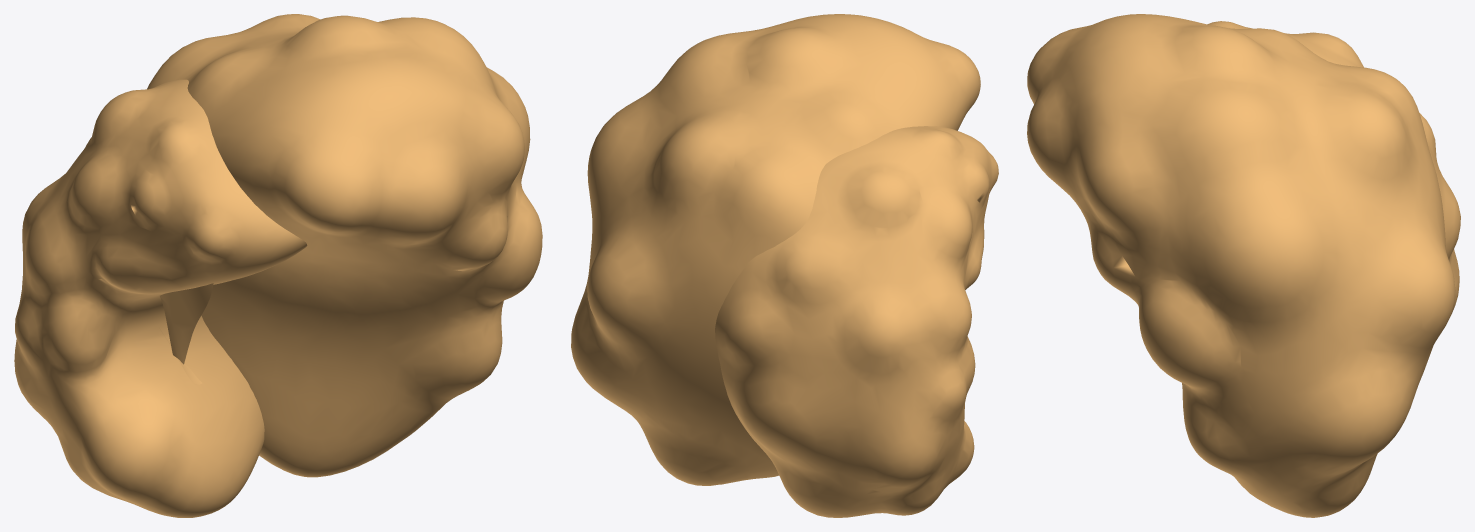
Rendered from hair-008-040805fa.glb.
3 renders of one model, left to right at view 1: azimuth 30°, elevation 25°; view 2: azimuth 150°, elevation 25°; view 3: azimuth 270°, elevation 25°, orthographic. The views are drawn at different scales.
Parts seen in each view (by area): view 1: Geo_Female_White_Hair.011; view 2: Geo_Female_White_Hair.011; view 3: Geo_Female_White_Hair.011.
Boxes of the visible parts, x1,y1,x2,y2 form: Geo_Female_White_Hair.011: (14, 14, 542, 517); Geo_Female_White_Hair.011: (571, 14, 998, 517); Geo_Female_White_Hair.011: (1027, 14, 1460, 517).
Size of the model in its own units: 2.57 by 2.59 by 2.24.
